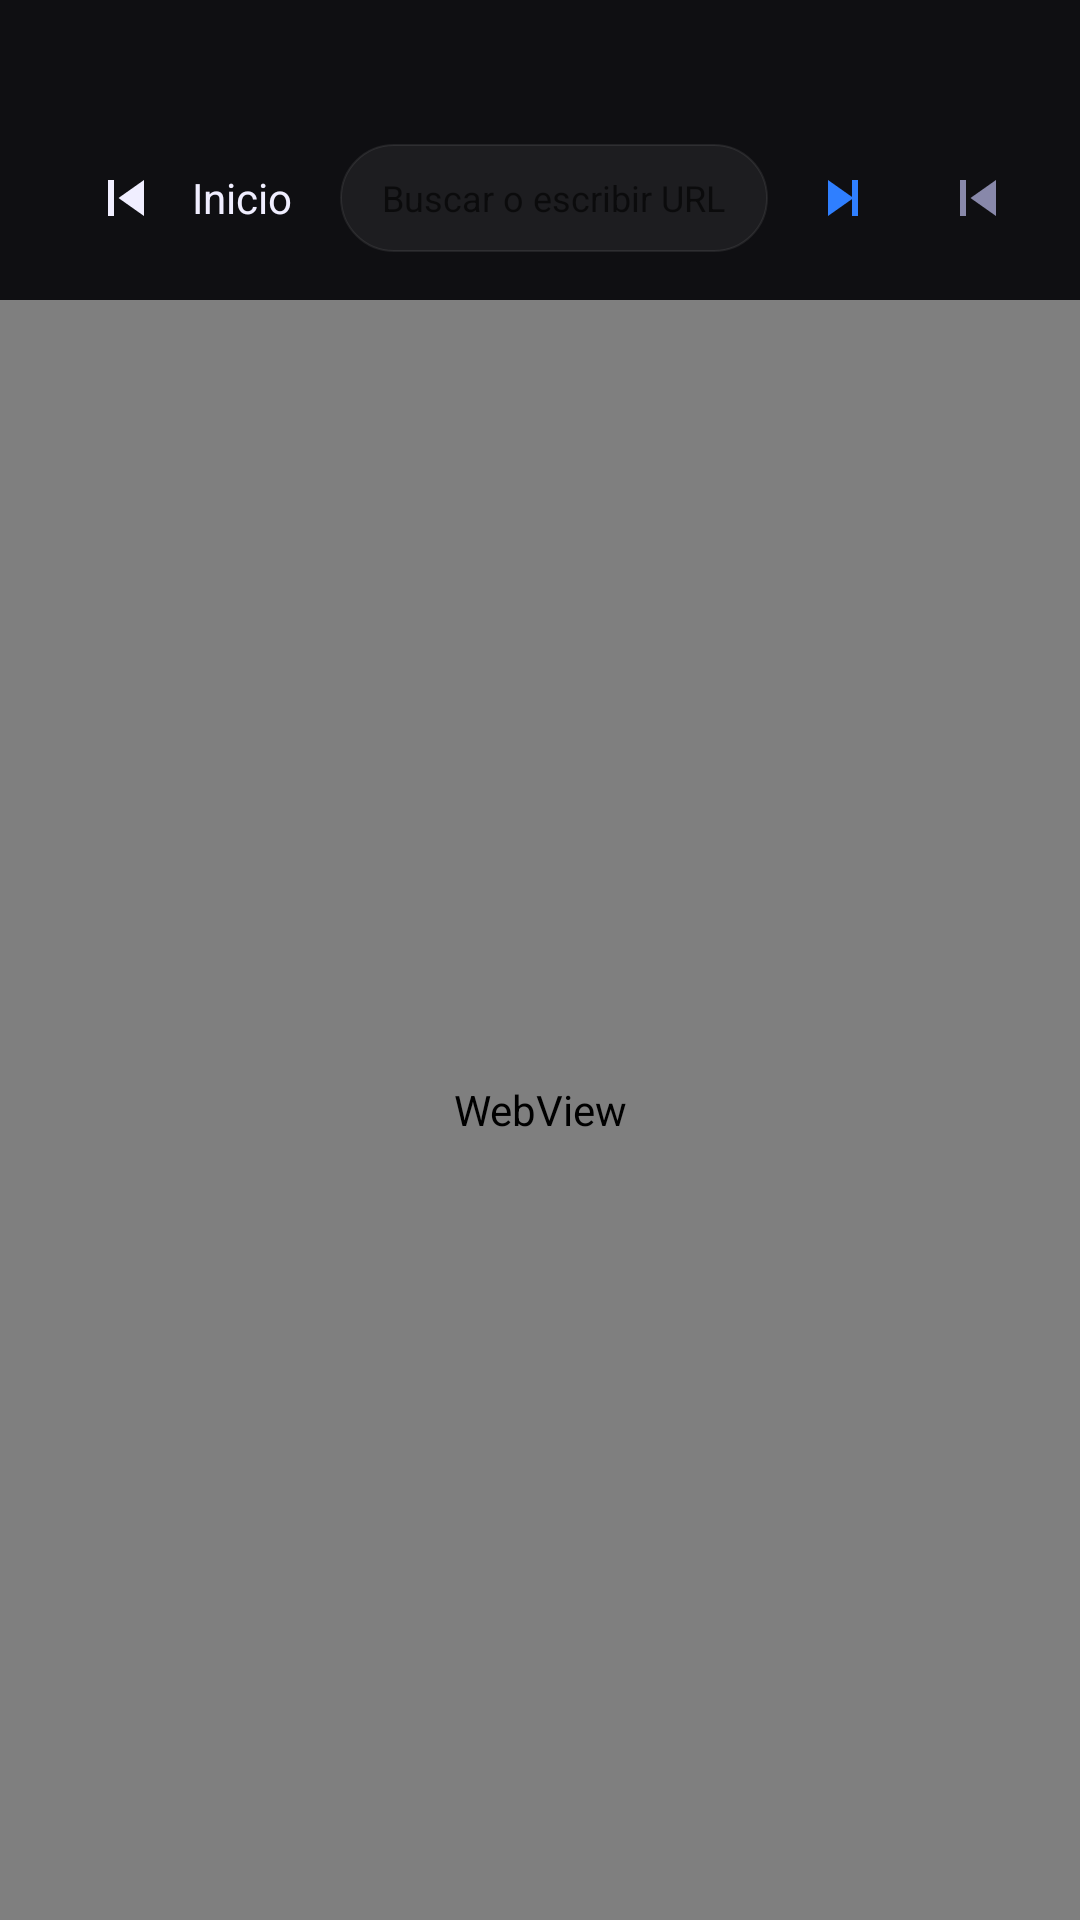

Icons on this 1080x1920 Android screen, each with its box as [x1,y1,x2,y2]:
Atras: [960,180,996,216]
Ir: [828,180,858,216]
